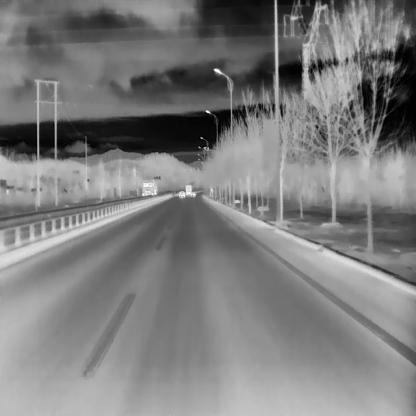car: (178, 190, 185, 198), (191, 191, 196, 197)
truck: (141, 178, 157, 196), (185, 184, 191, 195)
